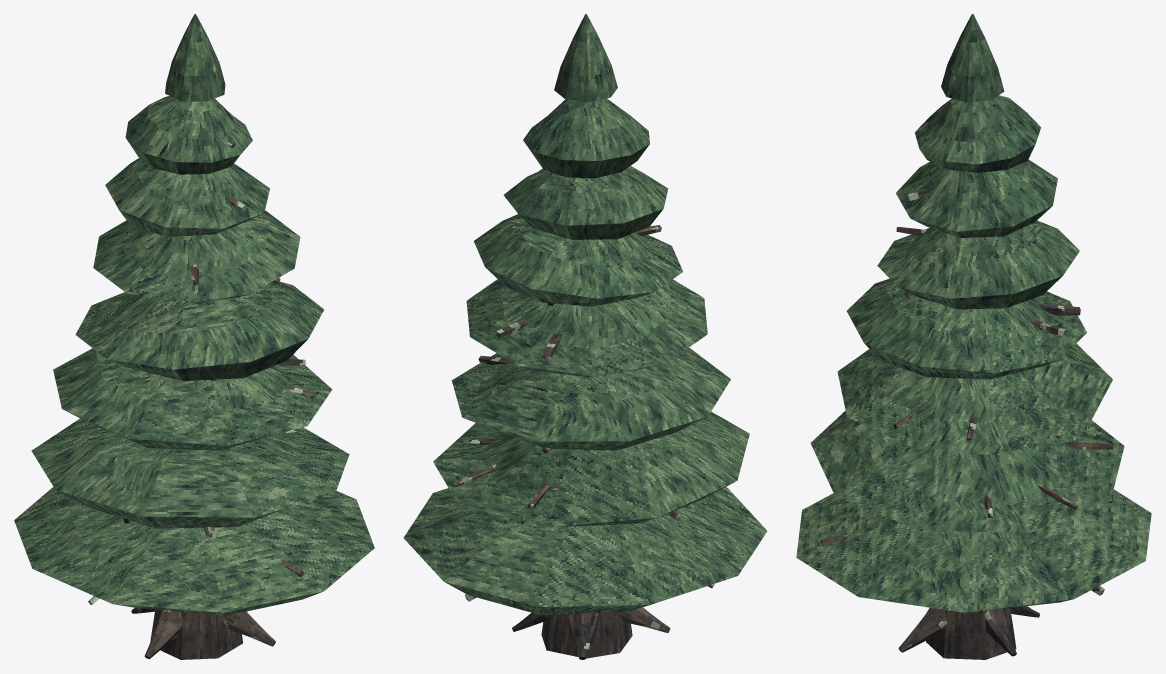
The model's file is pine_b.glb.
3 renders of one model, left to right at view 1: azimuth 30°, elevation 25°; view 2: azimuth 150°, elevation 25°; view 3: azimuth 270°, elevation 25°, orthographic.
Parts seen in each view (by area): view 1: crown_13, crown_21, crown_29, crown_37, crown_43, crown_49, crown_55, crown_56, trunk_1, root_5, root_4; view 2: crown_13, crown_21, crown_29, crown_37, crown_43, crown_49, crown_55, crown_56, trunk_1, root_2, root_5; view 3: crown_13, crown_21, crown_29, crown_37, crown_43, crown_49, crown_55, crown_56, trunk_1, root_4, root_3.
Boxes of the visible parts, box(x1,y1,x2,y2) form: crown_13: box(14, 487, 374, 615); crown_21: box(31, 418, 349, 528); crown_29: box(53, 348, 332, 450); crown_37: box(75, 281, 324, 380); crown_43: box(93, 210, 300, 303); crown_49: box(105, 158, 269, 236); crown_55: box(125, 96, 252, 174); crown_56: box(165, 14, 225, 101); trunk_1: box(150, 609, 242, 659); root_5: box(144, 610, 184, 658); root_4: box(221, 611, 275, 646); crown_13: box(403, 487, 767, 615); crown_21: box(433, 411, 749, 527); crown_29: box(451, 347, 730, 450); crown_37: box(466, 279, 707, 377); crown_43: box(474, 214, 682, 306); crown_49: box(503, 166, 668, 239); crown_55: box(523, 98, 649, 178); crown_56: box(554, 14, 617, 102); trunk_1: box(541, 611, 632, 658); root_2: box(568, 612, 599, 659); root_5: box(620, 607, 670, 632); crown_13: box(796, 489, 1151, 612); crown_21: box(810, 411, 1124, 532); crown_29: box(837, 343, 1112, 451); crown_37: box(846, 278, 1086, 379); crown_43: box(877, 220, 1079, 309); crown_49: box(896, 159, 1057, 237); crown_55: box(915, 95, 1040, 172); crown_56: box(941, 14, 1004, 102); trunk_1: box(926, 608, 1016, 659); root_4: box(898, 607, 947, 652); root_3: box(984, 609, 1016, 656).
Bounding box in the file's own units: 57.4 × 109 × 55.99.
1 material, 1 textured.
